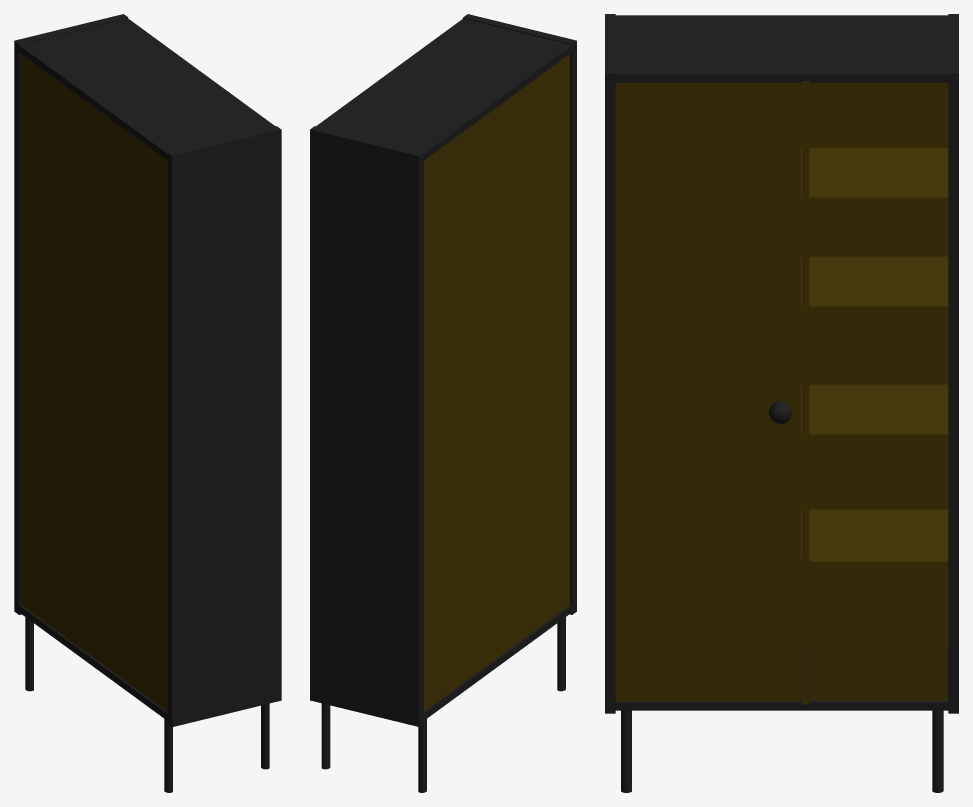
The model's file is cabinet.fbx.
3 views of the same model, side by side, from view 1: azimuth 30°, elevation 25°; view 2: azimuth 150°, elevation 25°; view 3: azimuth 270°, elevation 25° (orthographic). The views are drawn at different scales.
Parts seen in each view (by area): view 1: pasted__pasted__pCube3; view 2: pasted__pasted__pCube3; view 3: pasted__pasted__pCube3.
Part boxes in pixels (x1,y1,x2,y2): pasted__pasted__pCube3: (14,14,281,792); pasted__pasted__pCube3: (310,14,576,792); pasted__pasted__pCube3: (605,14,958,792).
Size of the model in its own units: 168 by 845 by 376.
